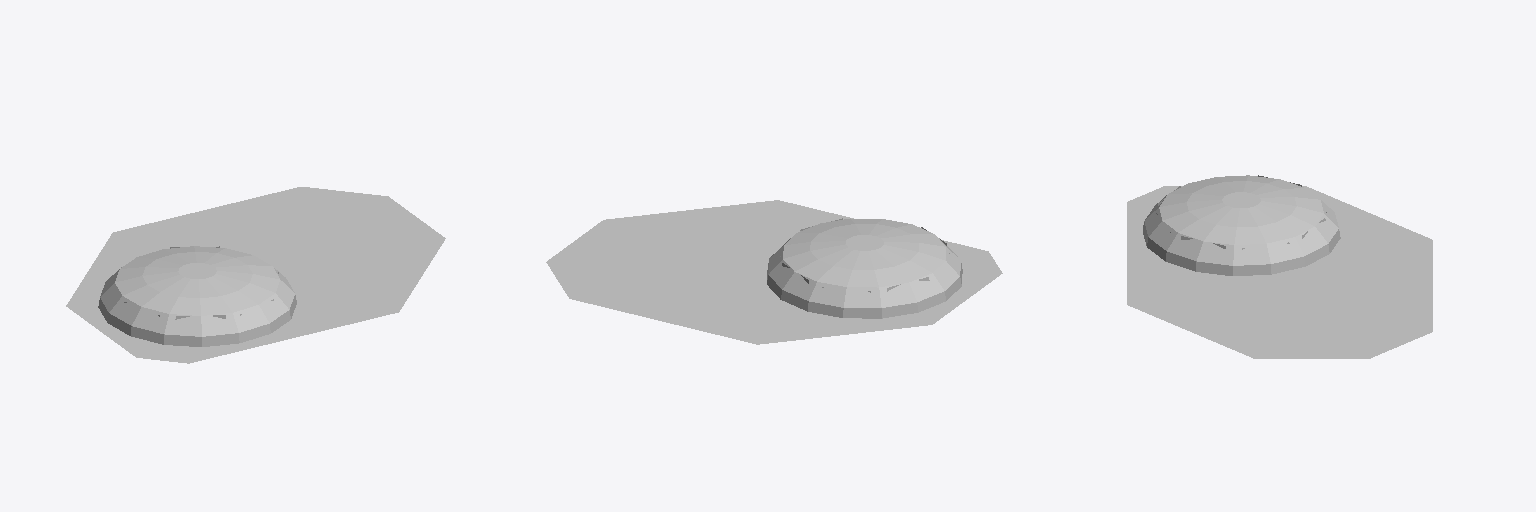
Rendered from Stage011Sky.obj.
3 views of the same model, side by side, from view 1: azimuth 30°, elevation 25°; view 2: azimuth 150°, elevation 25°; view 3: azimuth 270°, elevation 25° (orthographic).
Parts seen in each view (by area): view 1: stg011_b_S02_Mesh_0000, stg011_b_S01_Mesh_0000; view 2: stg011_b_S02_Mesh_0000, stg011_b_S01_Mesh_0000; view 3: stg011_b_S02_Mesh_0000, stg011_b_S01_Mesh_0000.
Part boxes in pixels (x1,y1,x2,y2): stg011_b_S02_Mesh_0000: (66,187,445,363); stg011_b_S01_Mesh_0000: (98,246,296,346); stg011_b_S02_Mesh_0000: (546,200,1002,344); stg011_b_S01_Mesh_0000: (767,218,962,318); stg011_b_S02_Mesh_0000: (1127,186,1432,358); stg011_b_S01_Mesh_0000: (1143,175,1340,275).
Bounding box in the file's own units: 9235 × 892 × 6926.